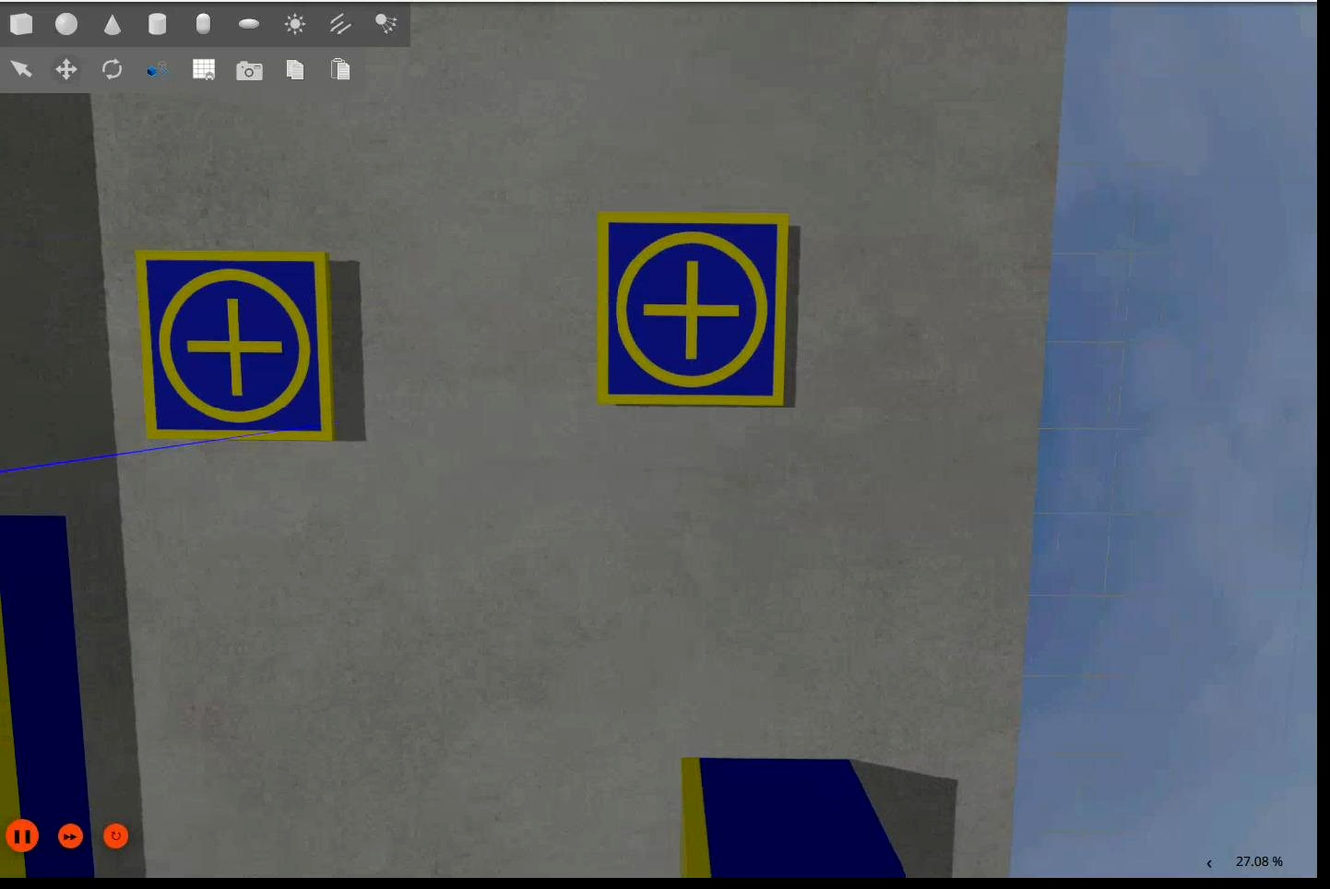small_base: (134, 245, 338, 444), (595, 208, 792, 406)
